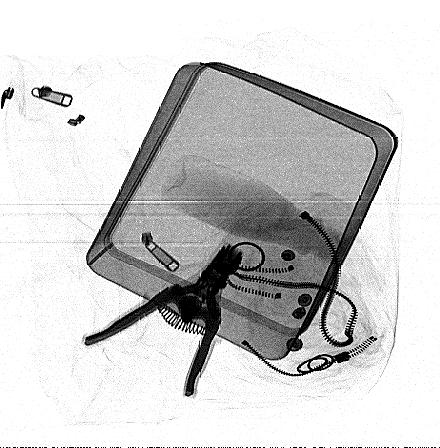Pliers: (83, 242, 245, 398)
